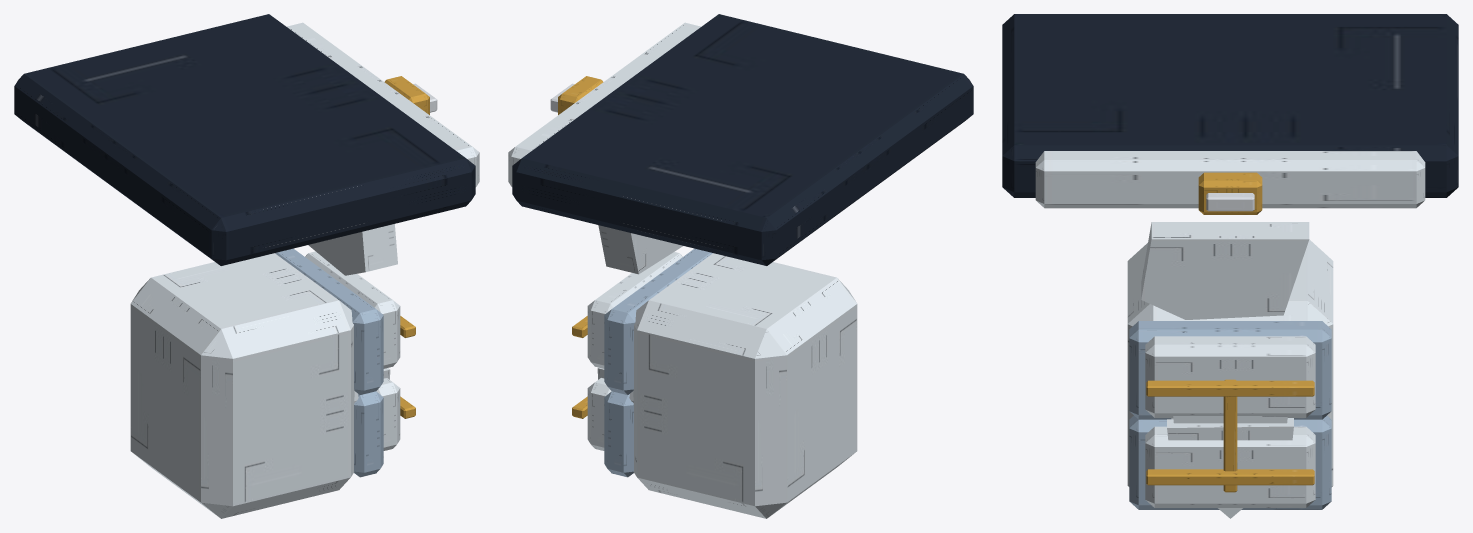
The model's file is seraph.glb.
3 renders of one model, left to right at view 1: azimuth 30°, elevation 25°; view 2: azimuth 150°, elevation 25°; view 3: azimuth 270°, elevation 25°, orthographic. The views are drawn at different scales.
Parts seen in each view (by area): view 1: hips, leg_L, shin_L; view 2: hips, leg_L, shin_L; view 3: hips, leg_L, shin_L.
Boxes of the visible parts, x1,y1,x2,y2 form: hips: (14,14,479,265); leg_L: (130,248,415,518); shin_L: (308,224,397,402); hips: (508,14,973,265); leg_L: (572,248,857,518); shin_L: (597,225,682,402); hips: (1002,14,1458,214); leg_L: (1127,239,1333,509); shin_L: (1141,222,1309,518).
Size of the model in its own units: 0.232 by 0.256 by 0.266.
Materials: 5 (5 with a texture image).
